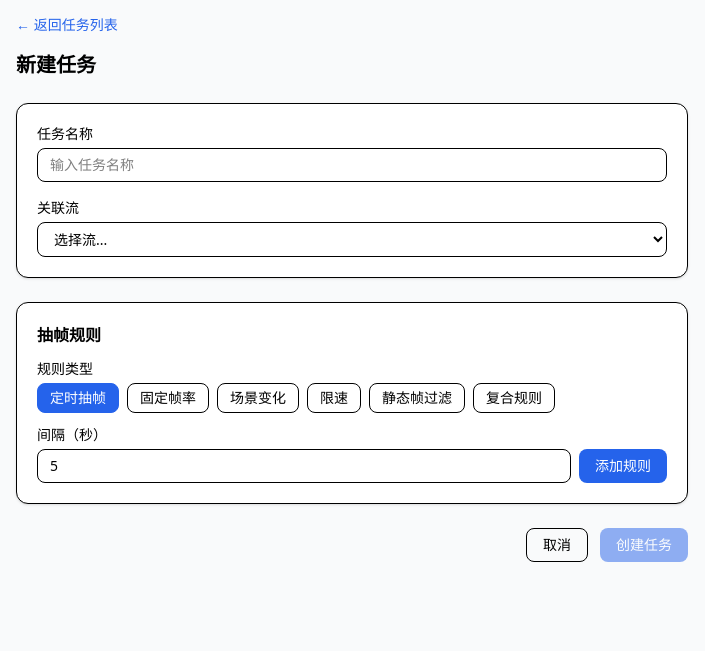
Test: TaskCreatePage › submit button enables after adding a rule
In the field with placeholder "输入任务名称": (352, 165) [37,148,667,182], type "my-task"
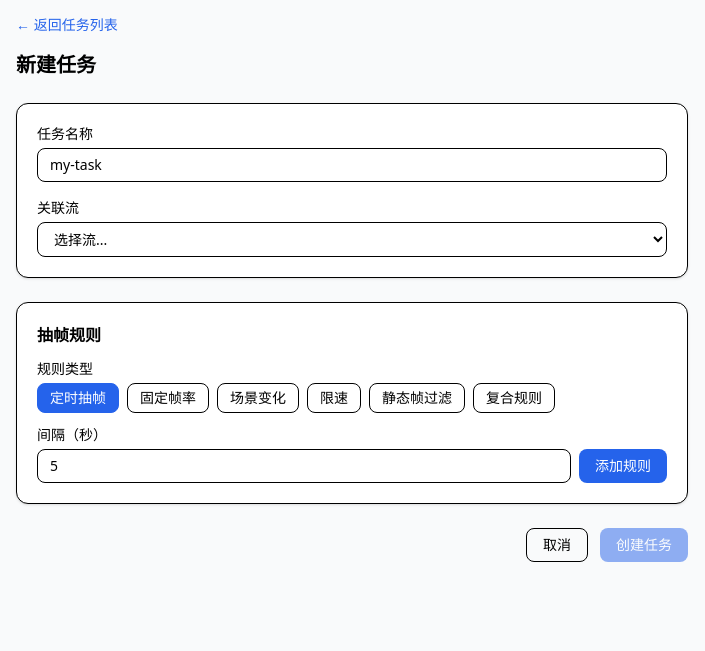
Select "camera-1" in the dropdown: (352, 240) [37,222,667,257]
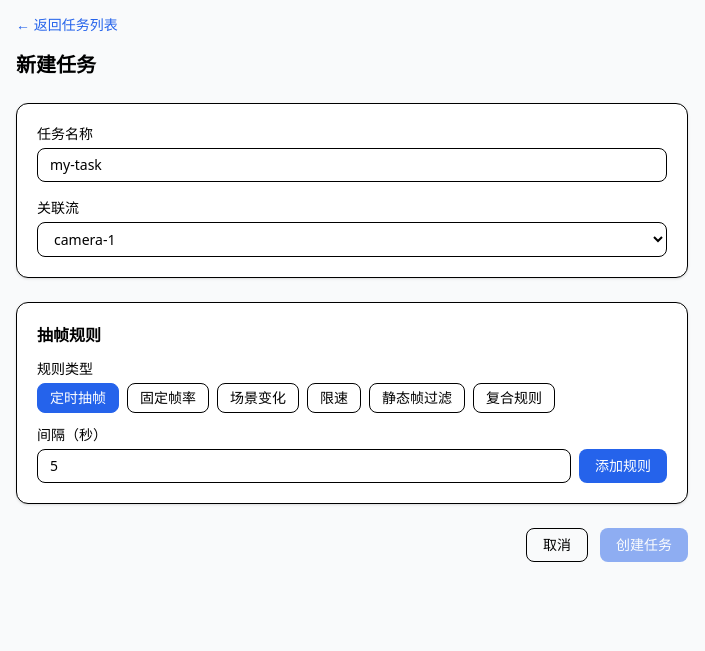
Click the button "添加规则": (623, 466) [579,449,667,483]
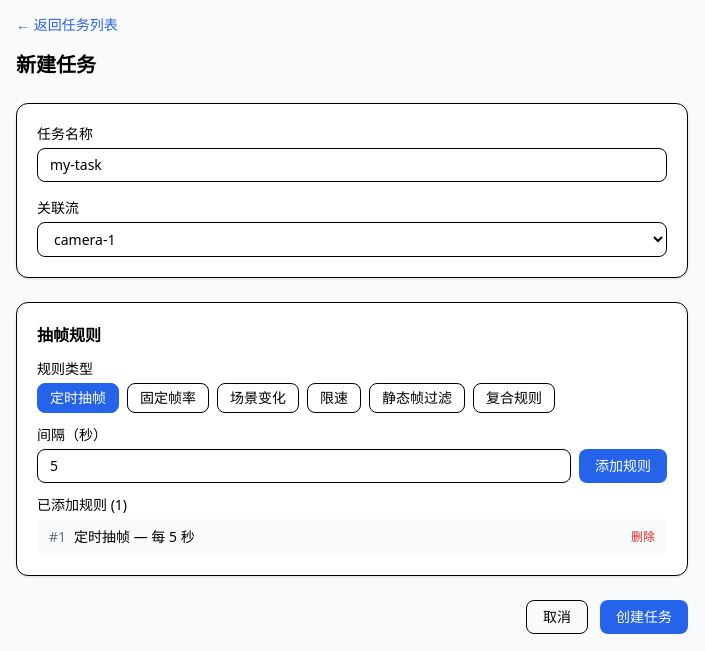
Check: the button "创建任务" is enabled, box [600,600,688,634]
